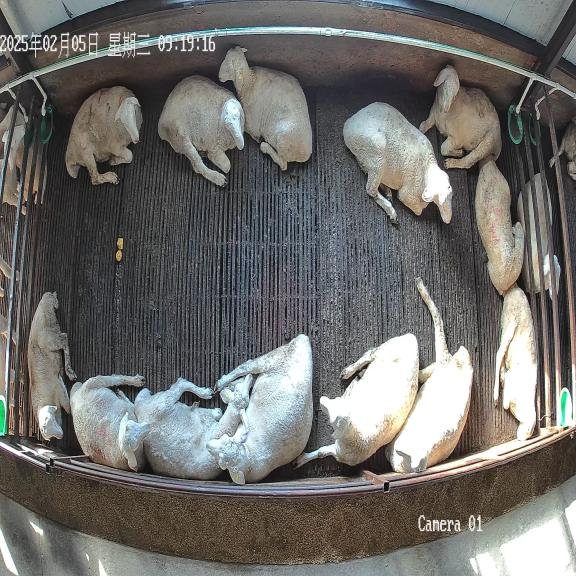lying: (385, 278, 473, 472), (297, 333, 419, 466), (208, 334, 313, 484), (343, 102, 452, 223), (134, 373, 254, 480), (218, 46, 312, 170), (158, 75, 245, 186), (419, 65, 501, 168), (70, 375, 150, 472), (65, 86, 142, 185), (28, 292, 76, 440), (493, 287, 537, 440), (475, 161, 524, 294)
